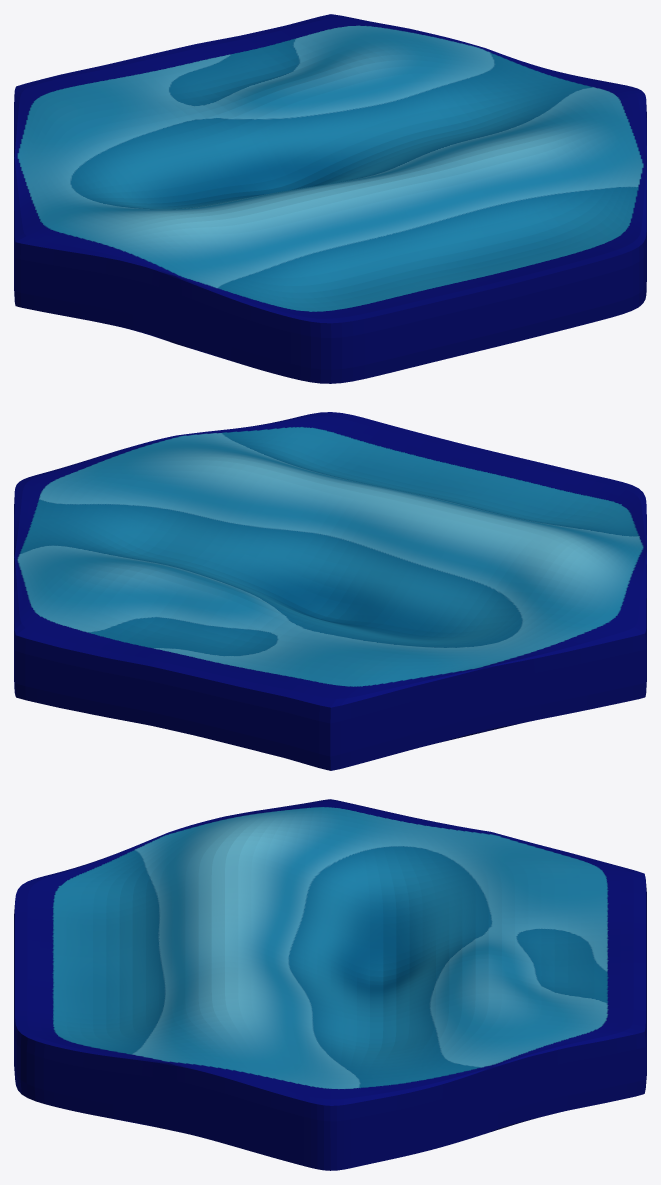
Rendered from hexagonWater.glb.
The picture shows the model from 3 angles, top to bottom: view 1: azimuth 30°, elevation 25°; view 2: azimuth 150°, elevation 25°; view 3: azimuth 270°, elevation 25°; orthographic projection.
Visible parts, largest first — view 1: Okrąg.007; view 2: Okrąg.007; view 3: Okrąg.007.
Part boxes in pixels (<box>): Okrąg.007: <box>14,14,646,383</box>; Okrąg.007: <box>14,412,646,770</box>; Okrąg.007: <box>14,799,646,1170</box>.
Bounding box in the file's own units: 1.98 × 0.2867 × 1.73.
Materials: 1 (1 with a texture image).
